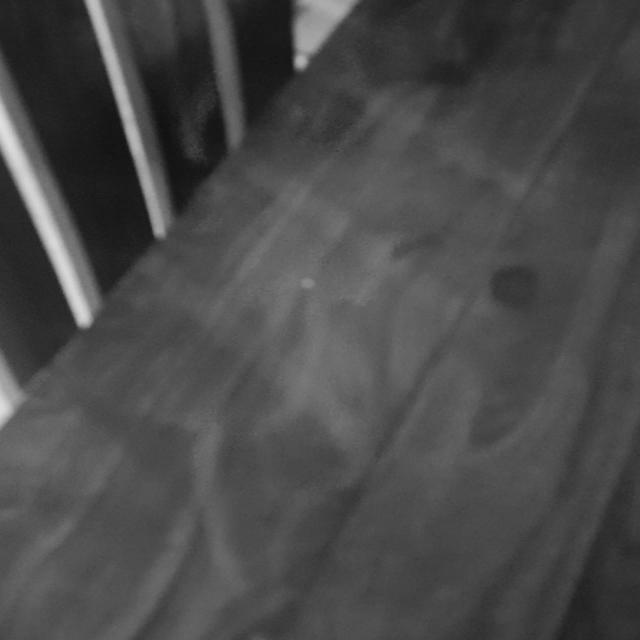fire: (126, 78, 416, 612)
